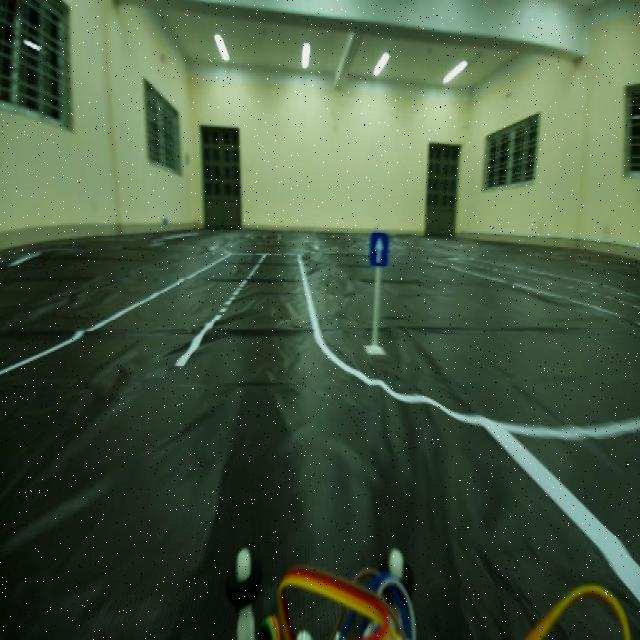onewayroad: (366, 228, 390, 273)
